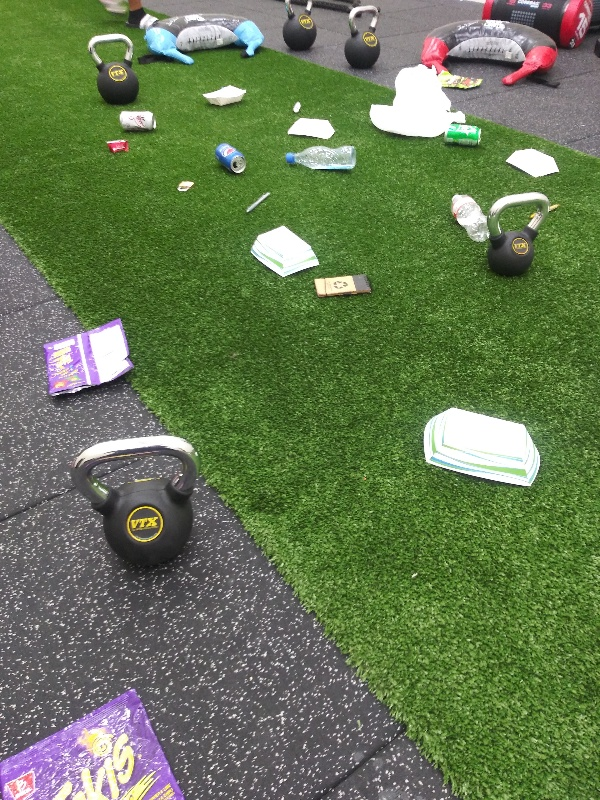bag: (1, 688, 192, 799), (42, 315, 141, 402), (437, 67, 485, 92)
bottle: (447, 188, 496, 245), (282, 144, 362, 173)
can: (211, 140, 252, 178), (441, 120, 486, 151), (116, 108, 162, 133)
plate: (419, 406, 545, 493), (246, 223, 322, 279), (504, 147, 562, 180), (201, 80, 252, 113), (285, 116, 338, 140)
